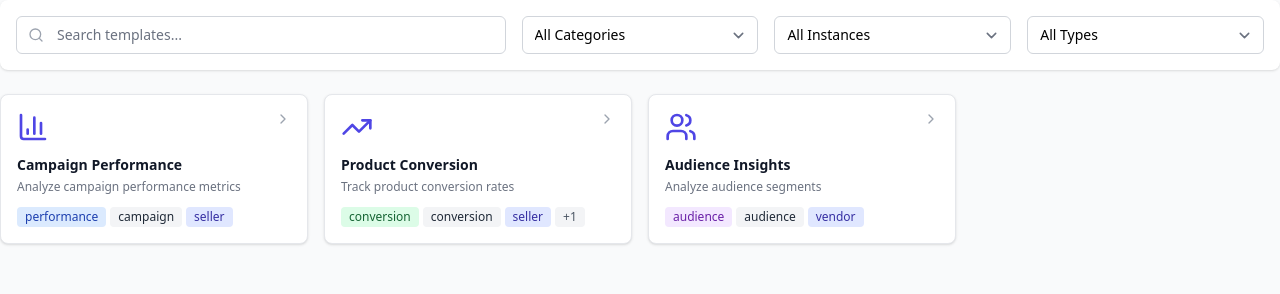
TemplateGrid › filters templates by category
Select "Conversion" in the 1st dropdown named "Category" at [640, 35], box [522,16,758,54]
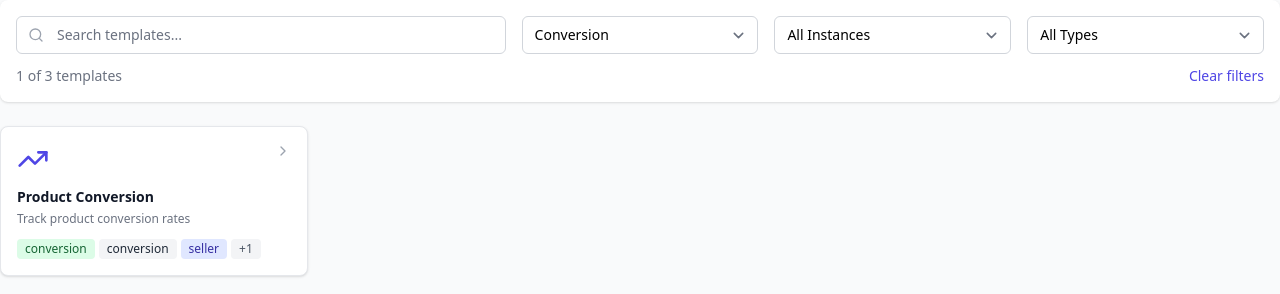
expect the heading "Product Conversion" is shown: met, box [17,187,154,206]
expect the button "Campaign Performance" is gone: met
expect the button "Audience Insights" is gone: met
